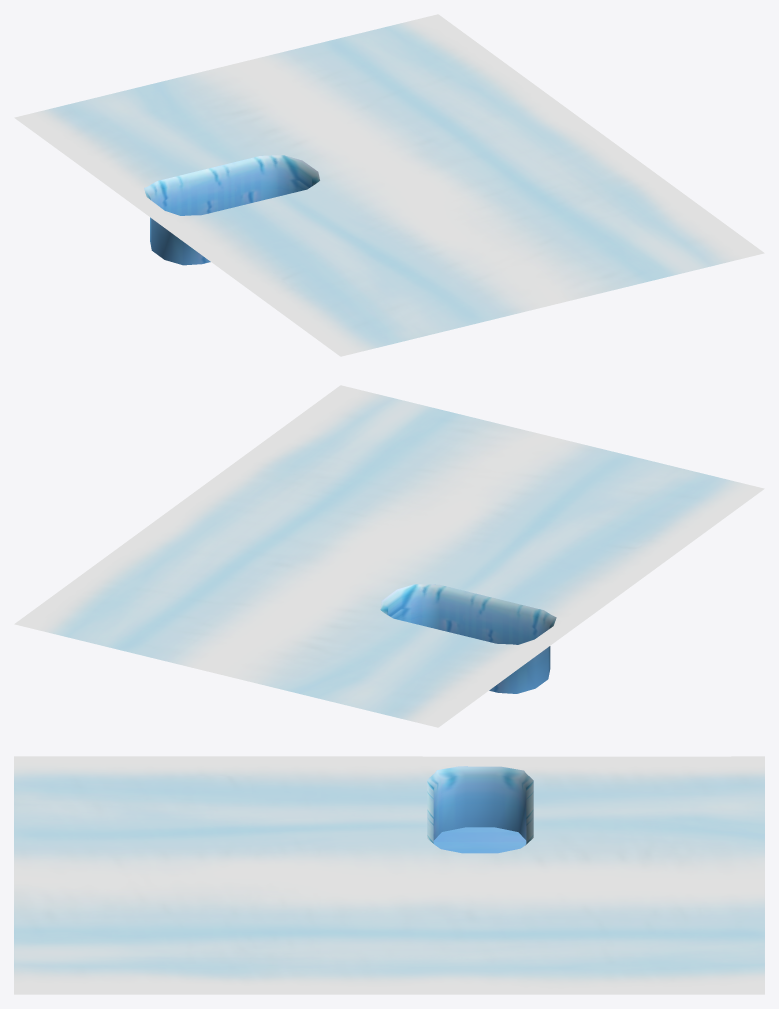
File: Hole_M_02_L.FBX
3 views of the same model, one above another, from view 1: azimuth 30°, elevation 25°; view 2: azimuth 150°, elevation 25°; view 3: azimuth 270°, elevation 25° (orthographic). The views are drawn at different scales.
Visible parts, largest first — view 1: modelRoad078; view 2: modelRoad078; view 3: modelRoad078.
Boxes of the visible parts, x1,y1,x2,y2 form: modelRoad078: (14, 14, 764, 356); modelRoad078: (14, 385, 764, 727); modelRoad078: (14, 756, 764, 994).
Size of the model in its own units: 600 by 70 by 800.
